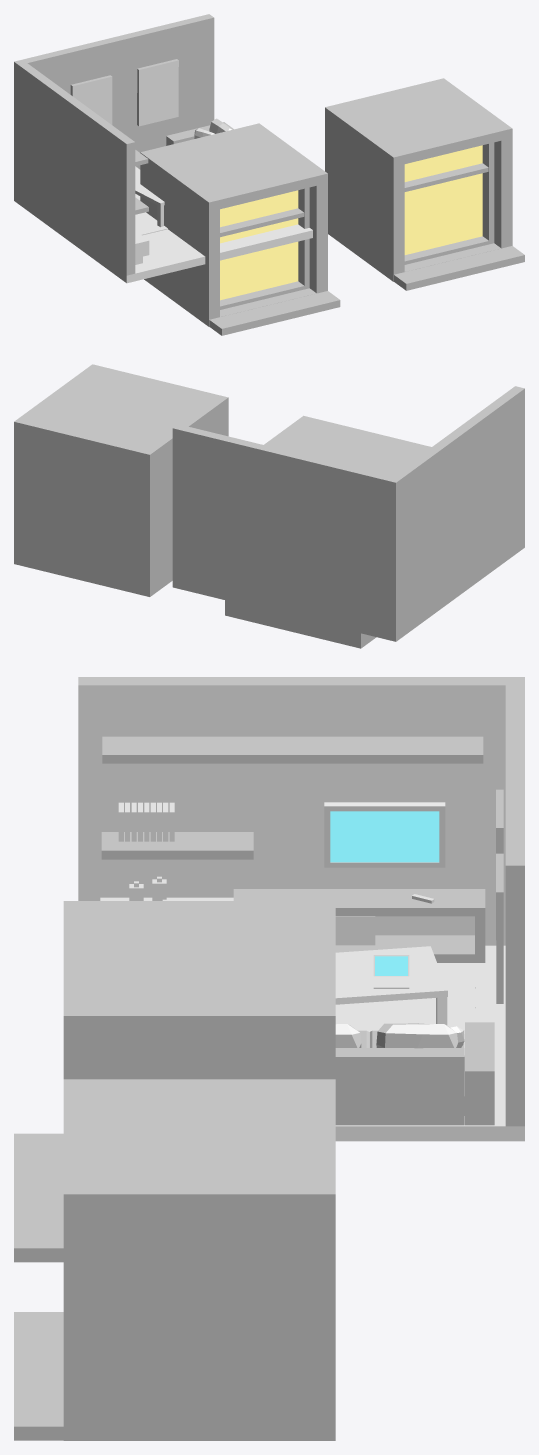
File: room.glb
3 views of the same model, one above another, from view 1: azimuth 30°, elevation 25°; view 2: azimuth 150°, elevation 25°; view 3: azimuth 270°, elevation 25° (orthographic). The views are drawn at different scales.
Parts seen in each view (by area): view 1: okna, steni, kartini, divan, kamod, stol, cover; view 2: steni, okna; view 3: okna, steni, kamod, divan, stol, cover, kartini.
Boxes of the visible parts, x1=… form: okna: x1=140, y1=78, x2=524, y2=335; steni: x1=14, y1=14, x2=312, y2=283; kartini: x1=70, y1=59, x2=178, y2=126; divan: x1=166, y1=118, x2=233, y2=145; kamod: x1=135, y1=150, x2=149, y2=264; stol: x1=135, y1=165, x2=164, y2=227; cover: x1=135, y1=194, x2=167, y2=235; steni: x1=172, y1=386, x2=524, y2=641; okna: x1=14, y1=364, x2=431, y2=648; okna: x1=14, y1=901, x2=335, y2=1440; steni: x1=78, y1=677, x2=524, y2=1141; kamod: x1=100, y1=736, x2=485, y2=962; divan: x1=335, y1=1022, x2=494, y2=1125; stol: x1=335, y1=946, x2=447, y2=1024; cover: x1=335, y1=984, x2=475, y2=1055; kartini: x1=496, y1=789, x2=503, y2=1003.
Bounding box in the file's own units: 6.42 × 3.2 × 3.76.
